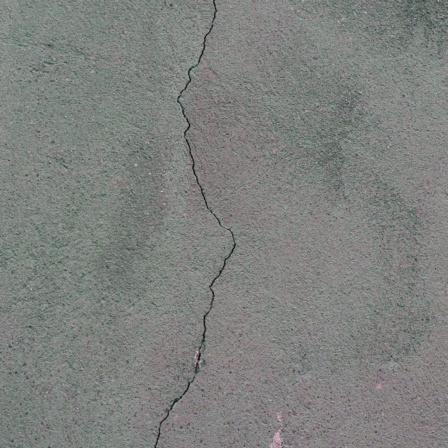crack: (128, 0, 271, 448)
